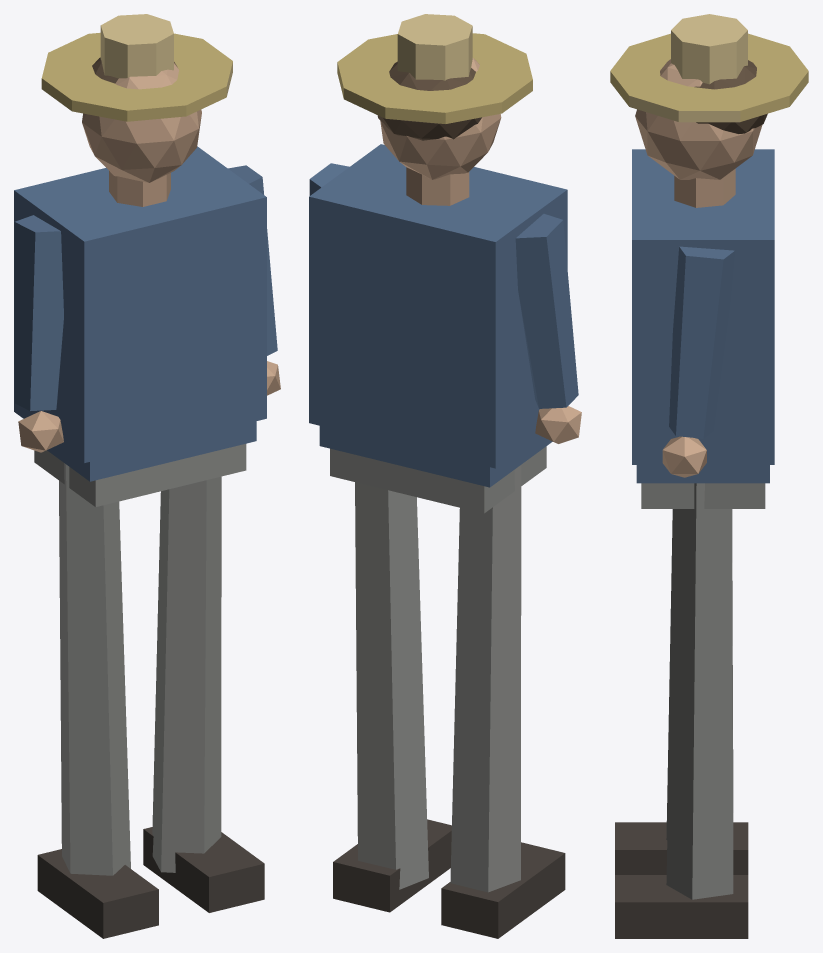
Rendered from spectator_standing_a.glb.
3 renders of one model, left to right at view 1: azimuth 30°, elevation 25°; view 2: azimuth 150°, elevation 25°; view 3: azimuth 270°, elevation 25°, orthographic. The views are drawn at different scales.
Visible parts, largest first — view 1: spectator_standing_a; view 2: spectator_standing_a; view 3: spectator_standing_a.
Boxes of the visible parts, x1,y1,x2,y2 form: spectator_standing_a: (14, 14, 280, 938); spectator_standing_a: (309, 14, 581, 938); spectator_standing_a: (610, 14, 808, 938).
Bounding box in the file's own units: 0.4851 × 1.55 × 0.32.
